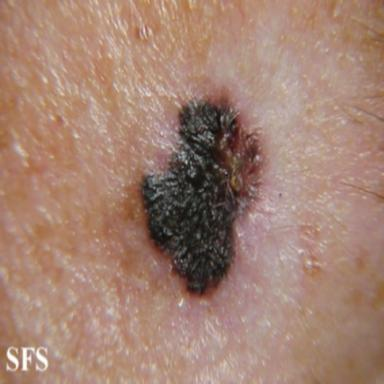Melanoma: (142, 83, 265, 297)
